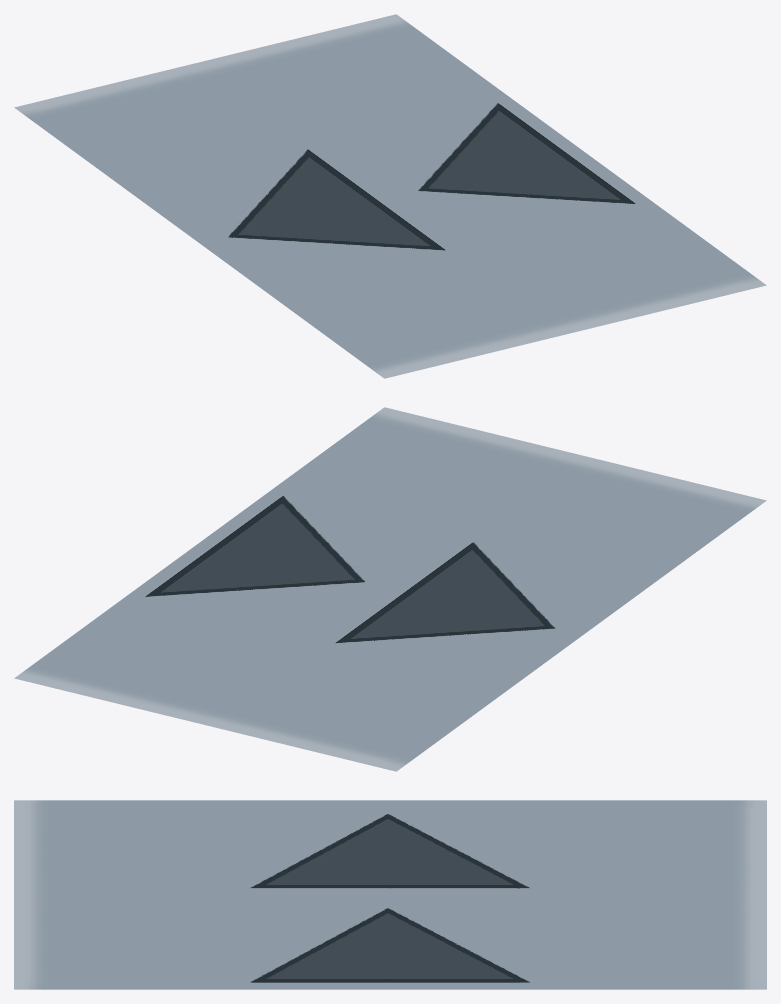
The model's file is ThePass_Slim_Scrolling.fbx.
The picture shows the model from 3 angles, top to bottom: view 1: azimuth 30°, elevation 25°; view 2: azimuth 150°, elevation 25°; view 3: azimuth 270°, elevation 25°; orthographic projection.
Visible parts, largest first — view 1: ThePass_Slim_Scrolling; view 2: ThePass_Slim_Scrolling; view 3: ThePass_Slim_Scrolling.
Boxes of the visible parts, box(x1,y1,x2,y2) form: ThePass_Slim_Scrolling: box(14, 14, 766, 378); ThePass_Slim_Scrolling: box(14, 407, 766, 771); ThePass_Slim_Scrolling: box(14, 800, 766, 989).
Bounding box in the file's own units: 1.2 × 0 × 2.01.
